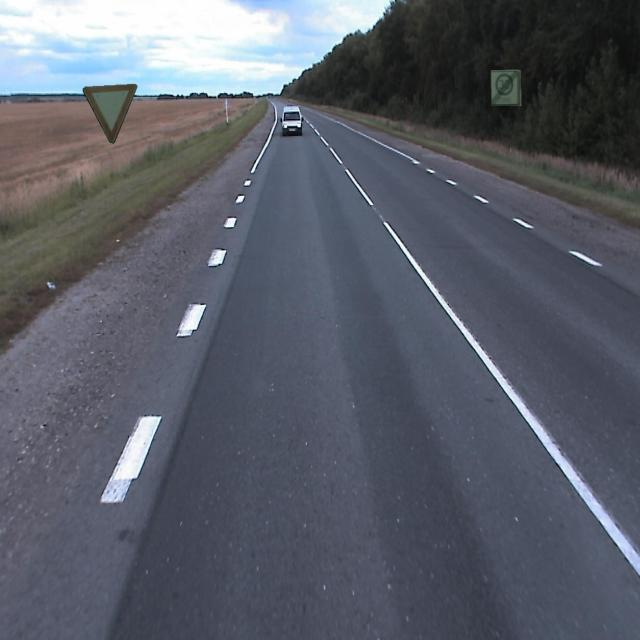road: (9, 98, 639, 639)
